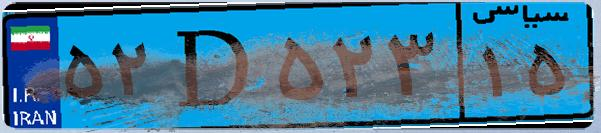1: (475, 38, 525, 113)
2: (330, 28, 385, 110), (110, 28, 158, 98)
3: (385, 28, 445, 110)
5: (270, 28, 330, 110), (57, 26, 110, 100), (525, 38, 570, 115)
D: (158, 12, 270, 120)
